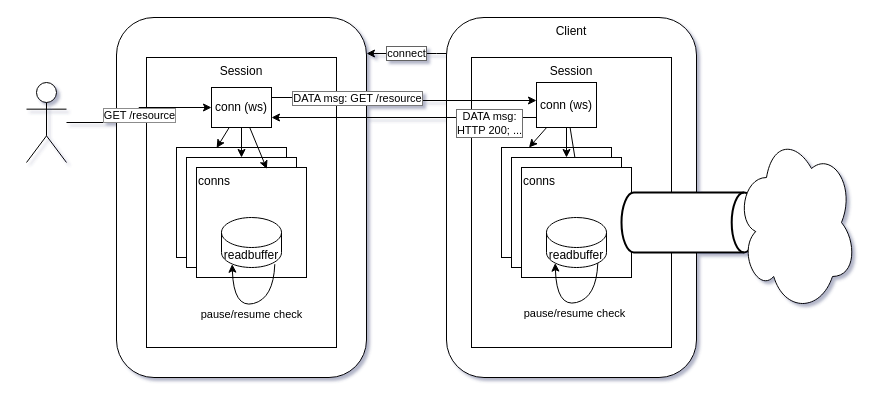
Some shapes in this 880 by 401 pixel diagram are drawn without their labels. Here are the shapes that lost their labels. From the top down, the box of each, then its label:
(26, 82, 66, 162): User Agent
(116, 16, 366, 378): Server
(620, 191, 757, 253): pipe
(736, 132, 856, 312): HTTP resource
